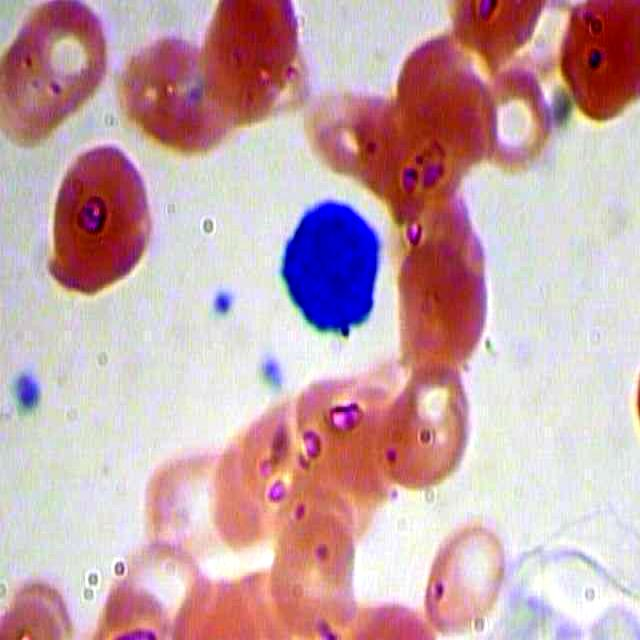Platelets: (12, 369, 40, 415), (207, 285, 240, 323), (258, 351, 291, 388)
RBC: (32, 136, 163, 307), (290, 357, 394, 500), (232, 397, 336, 540), (139, 424, 248, 559), (377, 364, 485, 497), (110, 33, 226, 156), (199, 1, 314, 123), (392, 236, 494, 368), (416, 505, 506, 640), (269, 505, 359, 640), (296, 68, 392, 189), (371, 100, 467, 221), (19, 1, 114, 120), (1, 34, 95, 154), (552, 1, 640, 128), (478, 63, 560, 181), (439, 1, 546, 60)
WBC: (278, 196, 383, 345)
